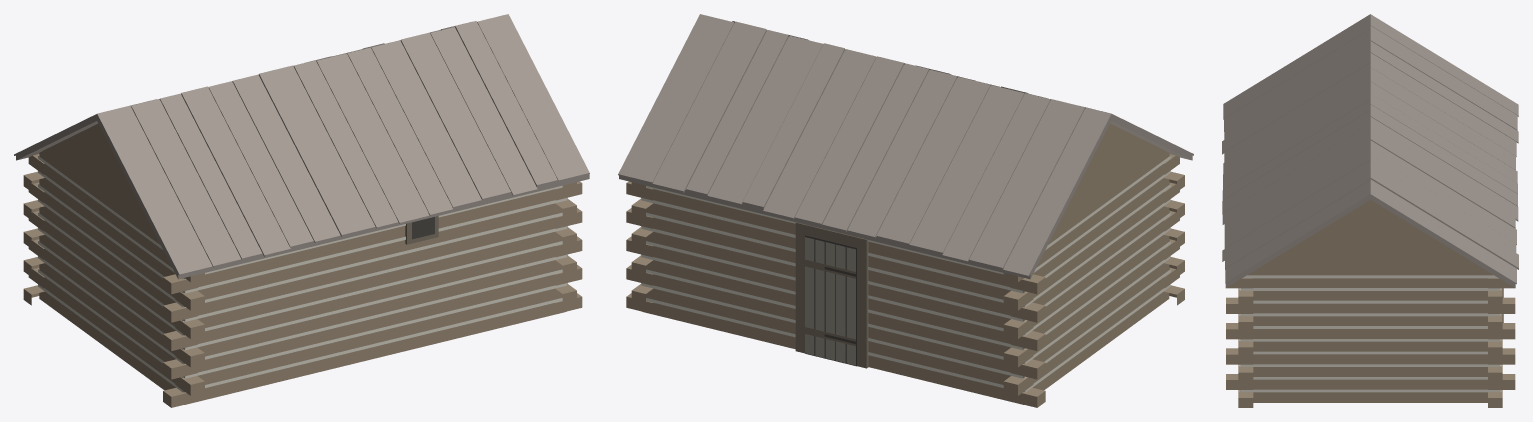
Rendered from first_fort_outer_stable_middle__first_fort_1803.glb.
3 views of the same model, side by side, from view 1: azimuth 30°, elevation 25°; view 2: azimuth 150°, elevation 25°; view 3: azimuth 270°, elevation 25° (orthographic). The views are drawn at different scales.
Parts seen in each view (by area): view 1: first_fort_outer_stable_middle__first_fort_1803; view 2: first_fort_outer_stable_middle__first_fort_1803; view 3: first_fort_outer_stable_middle__first_fort_1803.
Boxes of the visible parts, x1,y1,x2,y2 form: first_fort_outer_stable_middle__first_fort_1803: (14,14,589,407); first_fort_outer_stable_middle__first_fort_1803: (618,14,1193,407); first_fort_outer_stable_middle__first_fort_1803: (1222,14,1518,407).
Bounding box in the file's own units: 6.83 × 3.84 × 4.78.
